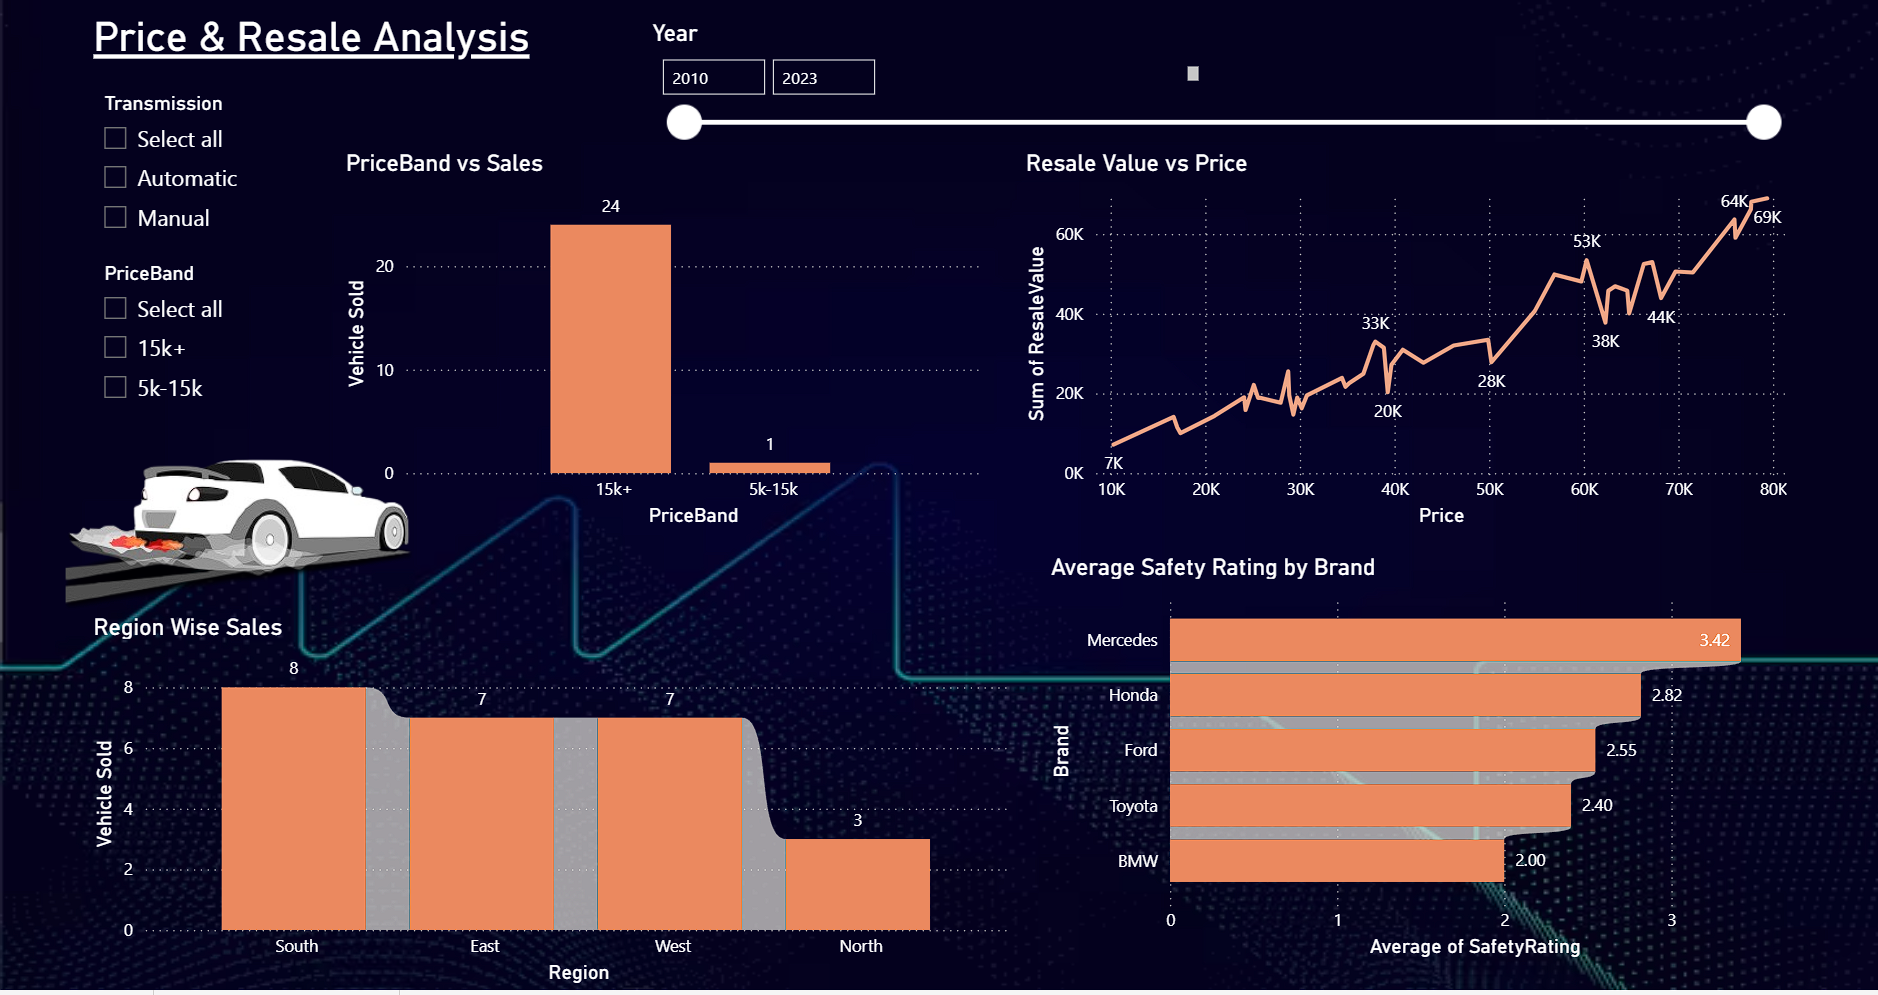

The page's visual inventory and layout, read from the dashboard file:
{"tool":"powerbi","page":{"name":"Price & Resale Analysis","canvas":[1280,720],"ordinal":1},"visuals":[{"type":"lineChart","title":"Resale Value vs Price","fields":{"Category":["cars_data_(1)(1).Price"],"Y":["Sum(cars_data_(1)(1).ResaleValue)"]},"box":[697.9,108.2,563.5,279.9],"z":0},{"type":"clusteredColumnChart","title":"PriceBand vs Sales","fields":{"Category":["cars_data_(1)(1).PriceBand"],"Y":["cars_data_(1)(1).Vehicle Sold"]},"box":[204,108.2,471.5,279.9],"z":1000},{"type":"barChart","title":"Average Safety Rating by Brand","fields":{"Category":["cars_data_(1)(1).Brand"],"Y":["Avg(cars_data_(1)(1).SafetyRating)"]},"box":[716.5,401.8,544.9,299.8],"z":2000},{"type":"slicer","title":"Transmission","fields":{"Values":["cars_data_(1)(1).Transmission"]},"box":[19.9,62.2,184.1,119.4],"z":3000},{"type":"slicer","title":"Year","fields":{"Values":["cars_data_(1)(1).Year"]},"box":[426.7,13.7,834.7,100.8],"z":4000},{"type":"slicer","fields":{"Values":["cars_data_(1)(1).PriceBand"]},"box":[19.9,185.3,166.7,125.6],"z":5000},{"type":"textbox","title":"Price & Resale Analysis","box":[19.9,8.7,813.5,54.7],"z":6000},{"type":"image","box":[0,248.8,312.2,258.7],"z":7000},{"type":"columnChart","title":"Region Wise Sales","fields":{"Category":["cars_data_(1)(1).Region"],"Y":["cars_data_(1)(1).Vehicle Sold"]},"box":[19.9,445.3,678,274.9],"z":8000}]}

Visuals, with their boxes on the page's 1280x720 design canvas (x1, y1, x2, y2). These are canvas units, not pixel positions in the 1878x995 screenshot, which may show the page scaled, cropped or inside an application window:
"Resale Value vs Price" lineChart: (698,108,1261,388)
"PriceBand vs Sales" clusteredColumnChart: (204,108,676,388)
"Average Safety Rating by Brand" barChart: (716,402,1261,702)
"Transmission" slicer: (20,62,204,182)
"Year" slicer: (427,14,1261,114)
slicer - cars_data_(1)(1).PriceBand: (20,185,187,311)
"Price & Resale Analysis" textbox: (20,9,833,63)
image: (0,249,312,508)
"Region Wise Sales" columnChart: (20,445,698,720)
